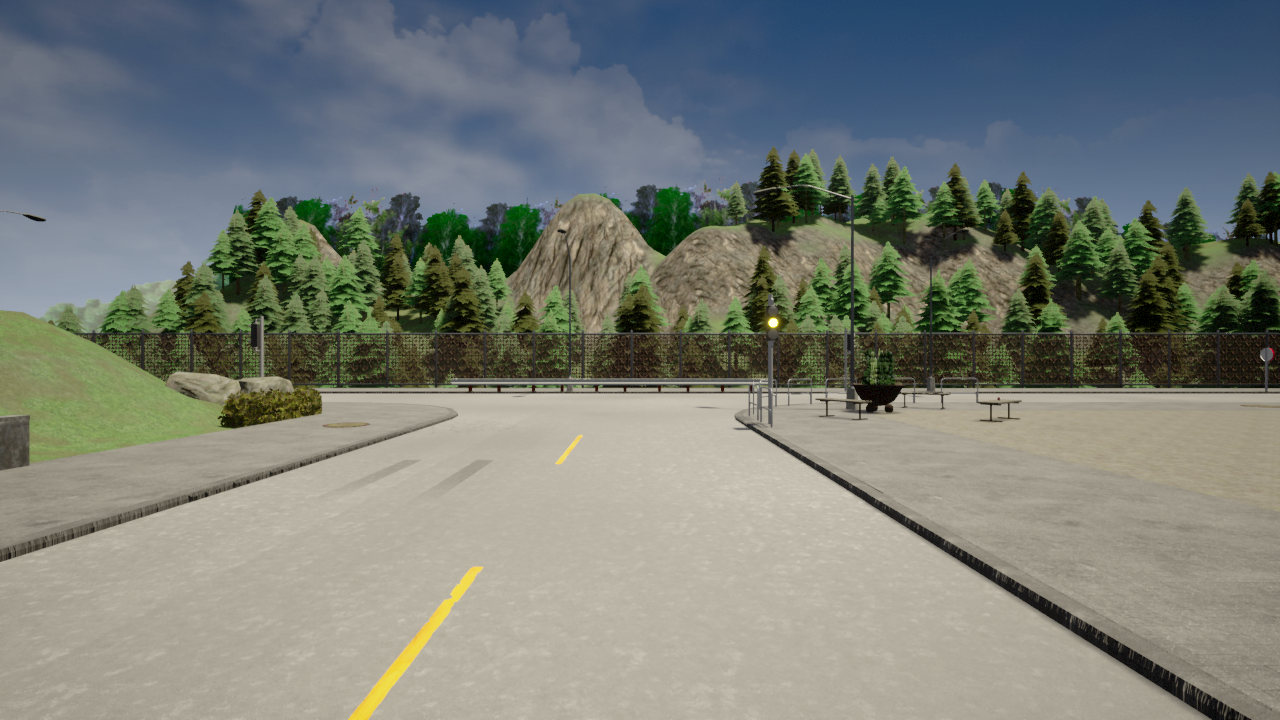yellow: (765, 304, 779, 341)
